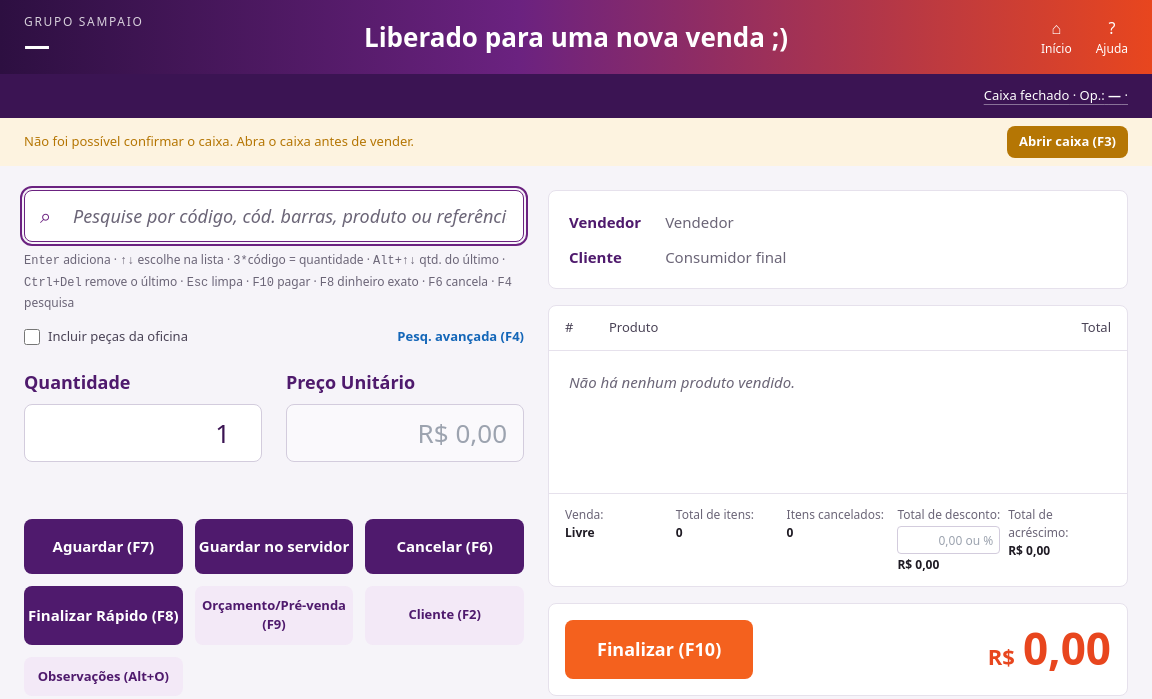
a faixa não pode acusar onde o servidor não barra › no carrinho de pré-venda ela NÃO diz "acima do limite" — a conversão não pede gestor
Click the button "Orçamento/Pré-venda (F9)" at (274, 615), box [195,586,353,644]
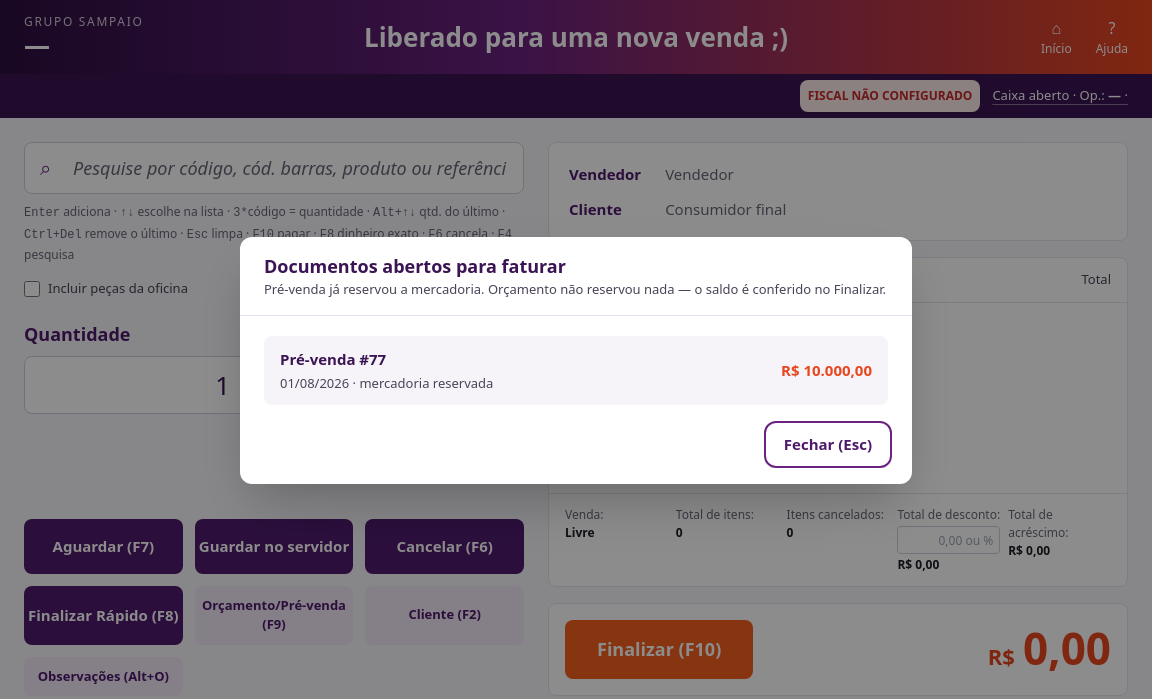
Click the text "Pré-venda #77" at (333, 359), box [280,349,386,369]
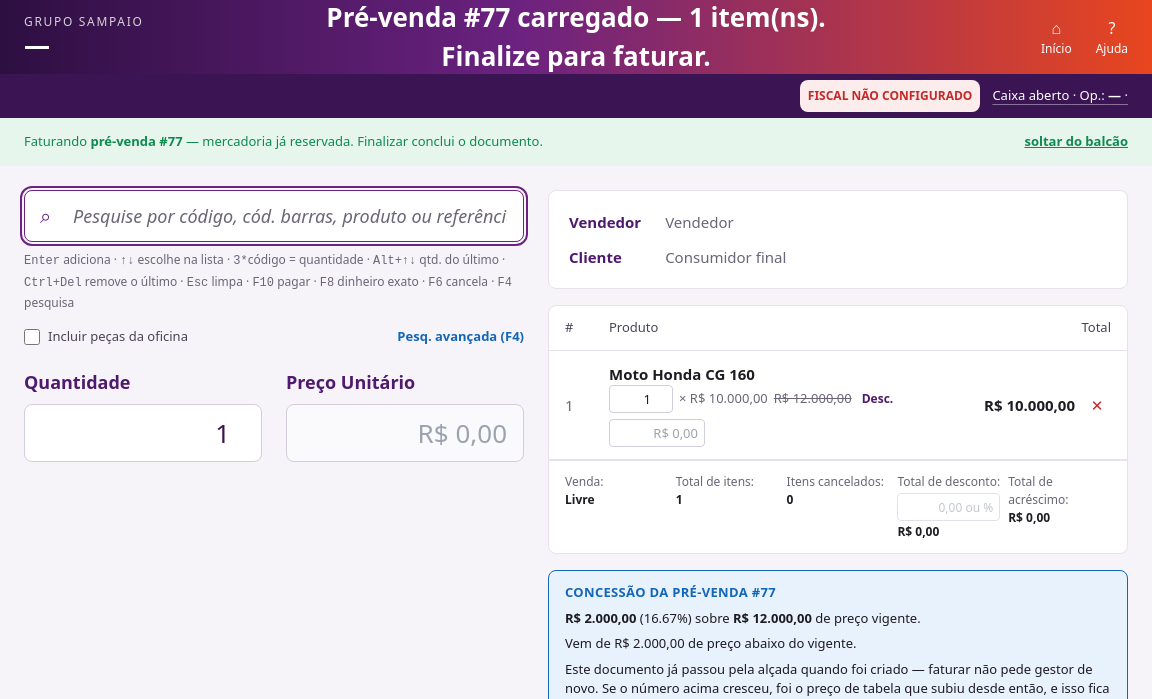
Expected: the button named "Remover " is shown, [1083,389,1111,421]
